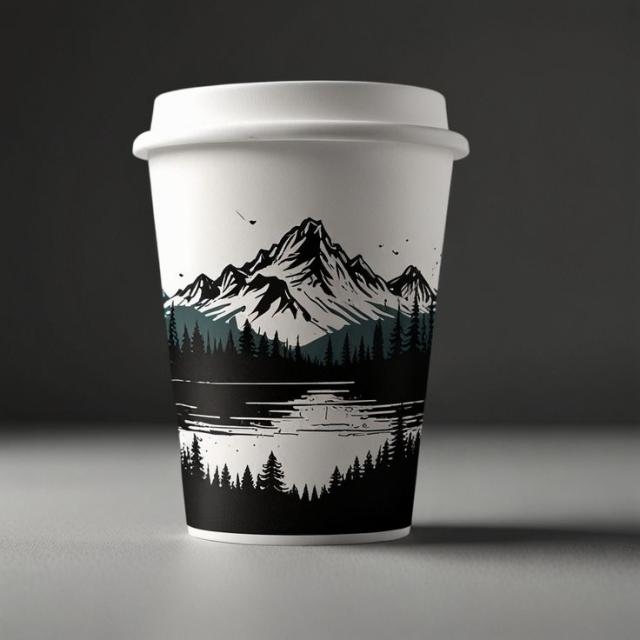paper cup: (133, 82, 470, 544)
